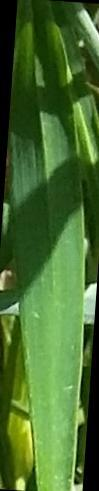Wheat: (20, 14, 78, 243), (22, 251, 82, 308), (33, 326, 77, 401), (36, 407, 72, 490)
